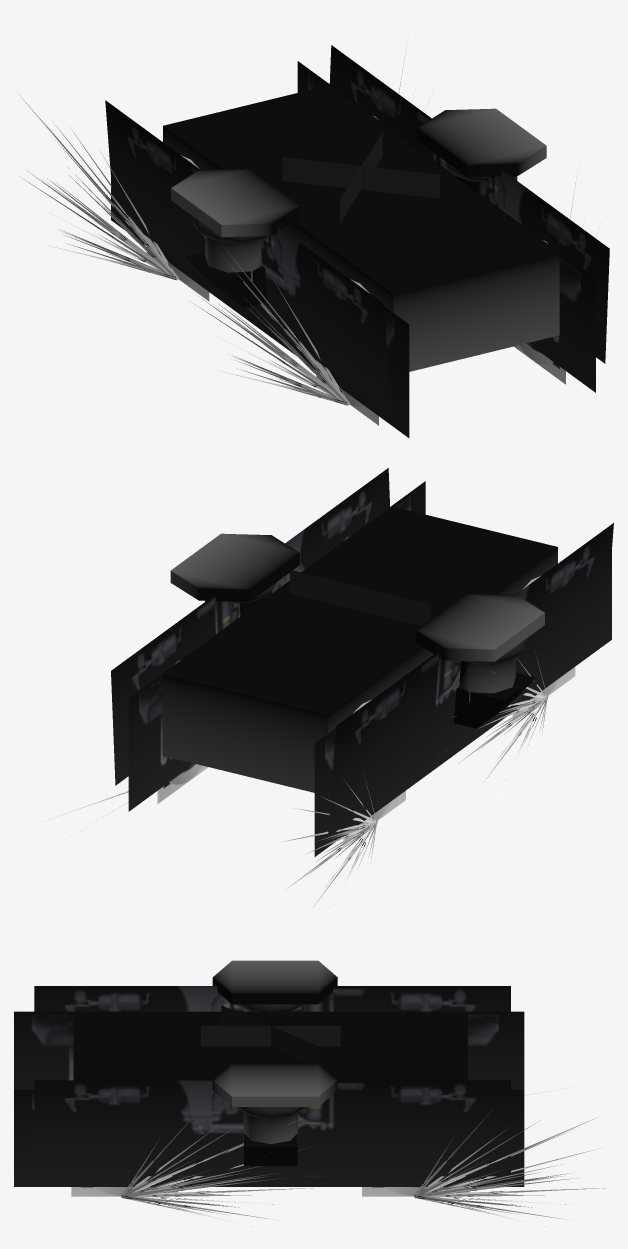
Rendered from JR2000_TRACK_LOWD4.glb.
3 renders of one model, top to bottom at view 1: azimuth 30°, elevation 25°; view 2: azimuth 150°, elevation 25°; view 3: azimuth 270°, elevation 25°, orthographic. The views are drawn at different scales.
Parts seen in each view (by area): view 1: obj1, OBJ2, FR1, OBJ, FR0; view 2: obj1, OBJ2, OBJ, FR1, FR0; view 3: obj1, OBJ2, FL1, FL0, OBJ.
Boxes of the visible parts, bbox=[...] form: obj1: bbox=[105, 45, 609, 437]; OBJ2: bbox=[171, 108, 546, 243]; FR1: bbox=[17, 92, 178, 280]; OBJ: bbox=[185, 176, 517, 307]; FR0: bbox=[189, 219, 349, 405]; obj1: bbox=[111, 468, 613, 856]; OBJ2: bbox=[170, 533, 544, 664]; OBJ: bbox=[205, 597, 535, 728]; FR1: bbox=[282, 779, 377, 924]; FR0: bbox=[453, 652, 548, 794]; obj1: bbox=[14, 986, 524, 1196]; OBJ2: bbox=[212, 960, 337, 1118]; FL1: bbox=[414, 1109, 605, 1233]; FL0: bbox=[121, 1106, 312, 1233]; OBJ: bbox=[243, 1011, 297, 1165].
Bounding box in the file's own units: 6.84 × 3.05 × 11.16.
30 materials, 29 textured.
